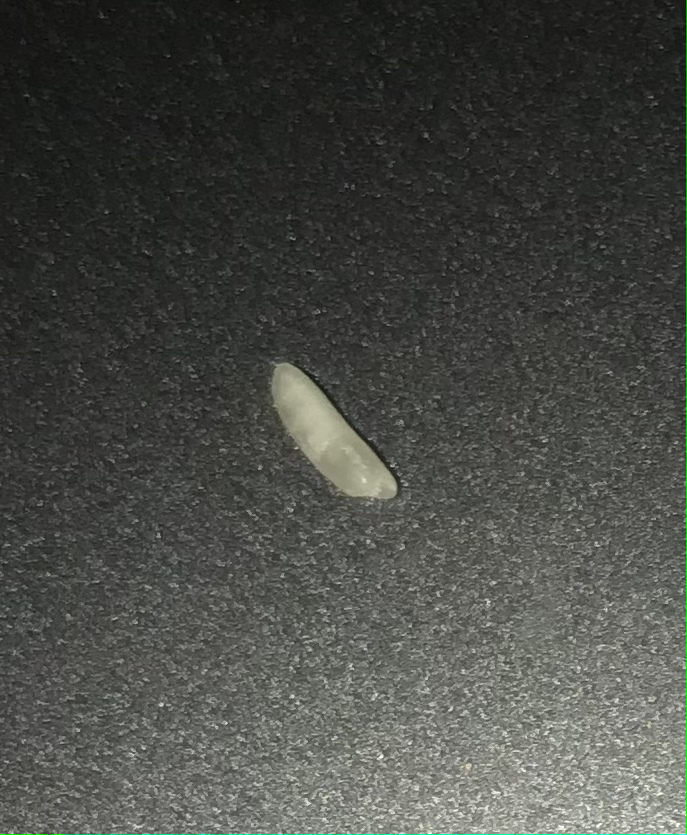Gao Long Lai: (258, 341, 410, 536)
